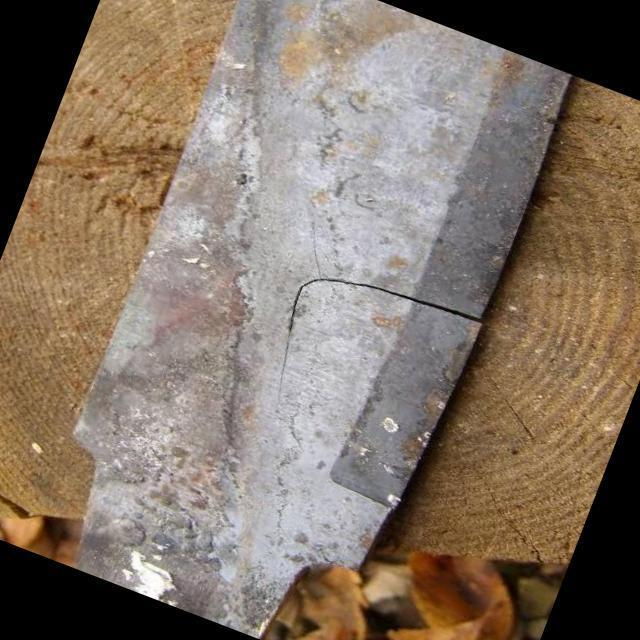defect: (276, 273, 482, 404)
